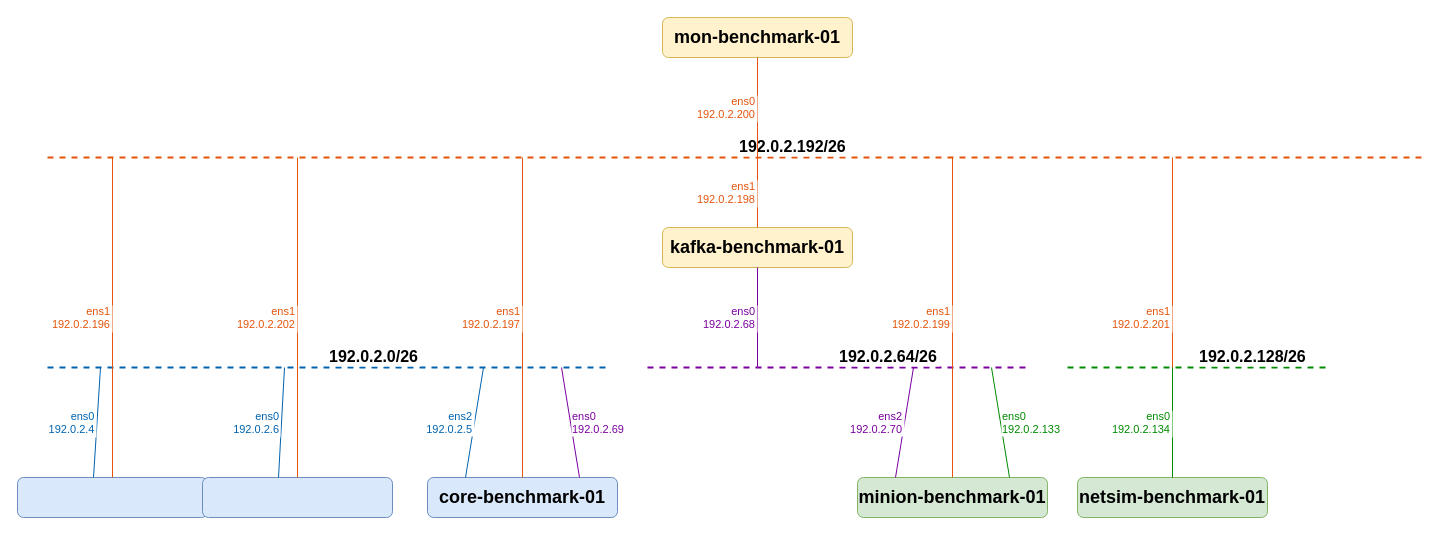
The diagram is 1447 pixels wide and 535 high, and some of its shapes have lost their labels. The centre of each missing label's shape, as x and y in pixels:
"db-benchmark-01" goes at point (112, 497).
"es-benchmark-01" goes at point (297, 497).
